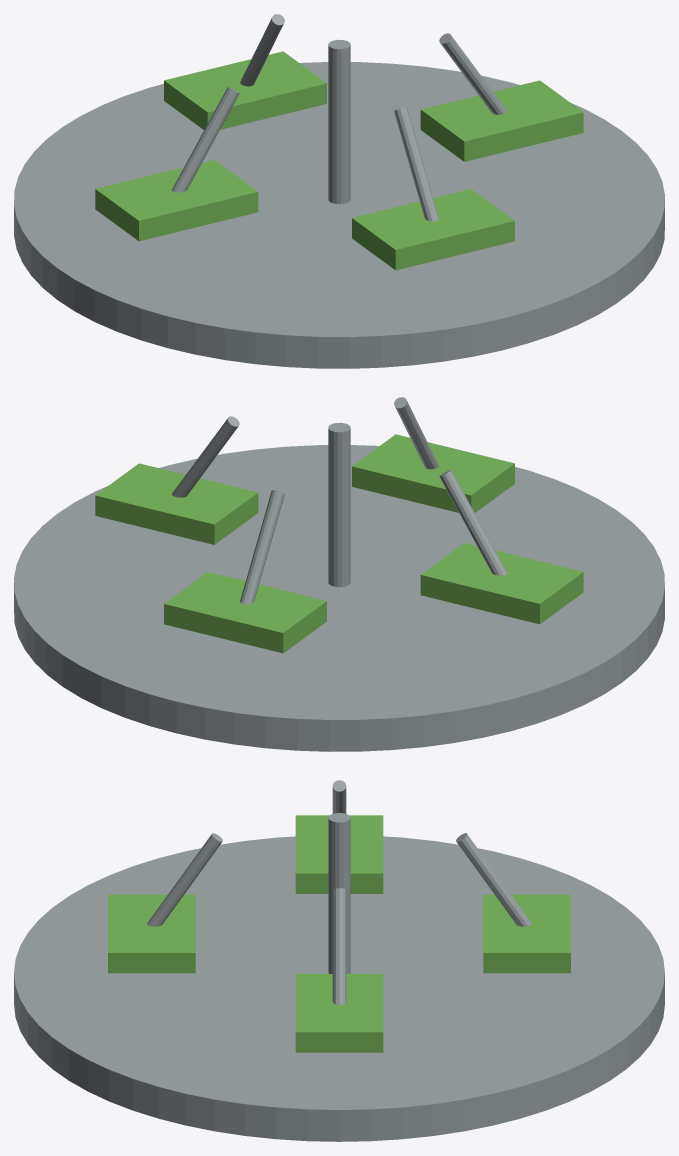
The model's file is inclusive-spinner.glb.
The picture shows the model from 3 angles, top to bottom: view 1: azimuth 30°, elevation 25°; view 2: azimuth 150°, elevation 25°; view 3: azimuth 270°, elevation 25°; orthographic projection.
Visible parts, largest first — view 1: Spinner deck, Spinner seat.003, Spinner seat, Spinner seat.002, Spinner seat.001, Spinner mast, Spinner rail.003, Spinner rail.002, Spinner rail, Spinner rail.001; view 2: Spinner deck, Spinner seat.001, Spinner seat, Spinner seat.002, Spinner seat.003, Spinner mast, Spinner rail.001, Spinner rail.002, Spinner rail, Spinner rail.003; view 3: Spinner deck, Spinner seat, Spinner seat.001, Spinner seat.003, Spinner seat.002, Spinner mast, Spinner rail, Spinner rail.001, Spinner rail.003.
Part boxes in pixels (left/top/right/bottom): Spinner deck: left=14, top=62, right=664, bottom=368; Spinner seat.003: left=352, top=189, right=514, bottom=270; Spinner seat: left=420, top=80, right=583, bottom=161; Spinner seat.002: left=95, top=160, right=258, bottom=241; Spinner seat.001: left=164, top=51, right=326, bottom=129; Spinner mast: left=328, top=39, right=350, bottom=204; Spinner rail.003: left=394, top=107, right=438, bottom=221; Spinner rail.002: left=172, top=87, right=239, bottom=192; Spinner rail: left=439, top=33, right=506, bottom=114; Spinner rail.001: left=240, top=14, right=284, bottom=86; Spinner deck: left=14, top=445, right=664, bottom=751; Spinner seat.001: left=164, top=572, right=326, bottom=653; Spinner seat: left=95, top=463, right=258, bottom=544; Spinner seat.002: left=420, top=543, right=583, bottom=624; Spinner seat.003: left=352, top=434, right=514, bottom=512; Spinner mast: left=328, top=422, right=350, bottom=587; Spinner rail.001: left=240, top=490, right=284, bottom=604; Spinner rail.002: left=439, top=470, right=506, bottom=575; Spinner rail: left=172, top=416, right=239, bottom=497; Spinner rail.003: left=394, top=397, right=438, bottom=469; Spinner deck: left=14, top=836, right=664, bottom=1141; Spinner seat: left=295, top=974, right=383, bottom=1052; Spinner seat.001: left=483, top=894, right=570, bottom=973; Spinner seat.003: left=108, top=894, right=195, bottom=973; Spinner seat.002: left=295, top=815, right=383, bottom=893; Spinner mast: left=328, top=813, right=350, bottom=973; Spinner rail: left=332, top=888, right=346, bottom=1005; Spinner rail.001: left=456, top=833, right=531, bottom=926; Spinner rail.003: left=147, top=833, right=222, bottom=926.
Bounding box in the file's own units: 5.2 × 1.64 × 5.2.
